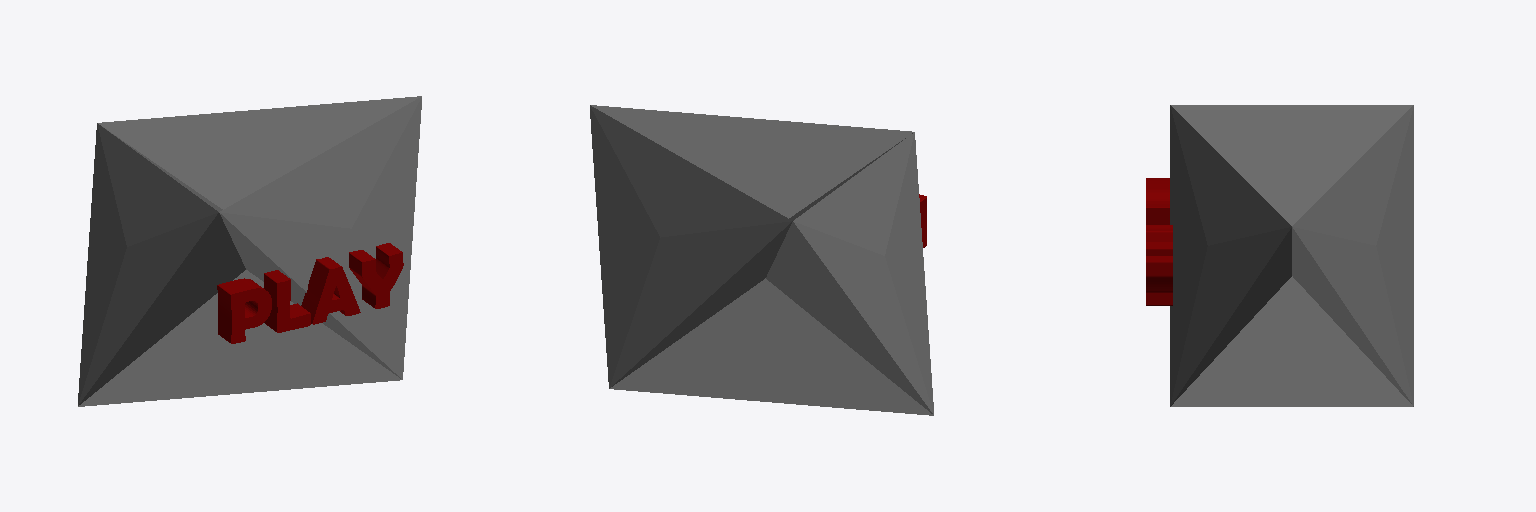
Rendered from play.obj.
The picture shows the model from 3 angles: view 1: azimuth 30°, elevation 25°; view 2: azimuth 150°, elevation 25°; view 3: azimuth 270°, elevation 25°; orthographic projection.
Visible parts, largest first — view 1: Hedra002, Text001; view 2: Hedra002; view 3: Hedra002, Text001.
Part boxes in pixels (bbox=[...]): Hedra002: bbox=[78, 96, 421, 406]; Text001: bbox=[217, 243, 403, 343]; Hedra002: bbox=[590, 105, 933, 415]; Hedra002: bbox=[1170, 105, 1413, 406]; Text001: bbox=[1146, 178, 1172, 305].
Bounding box in the file's own units: 123 × 77.22 × 82.76.